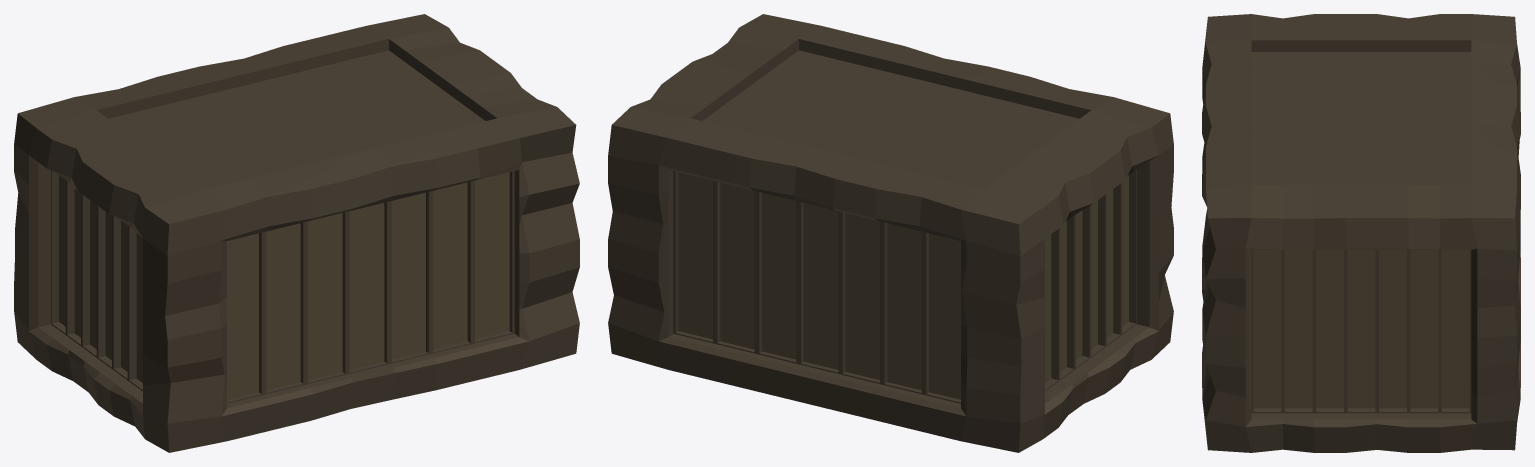
File: Mech4Box.fbx
3 views of the same model, side by side, from view 1: azimuth 30°, elevation 25°; view 2: azimuth 150°, elevation 25°; view 3: azimuth 270°, elevation 25° (orthographic).
Parts seen in each view (by area): view 1: ลูกบาศก์.120; view 2: ลูกบาศก์.120; view 3: ลูกบาศก์.120.
Part boxes in pixels (box(x1,y1,x2,y2)): ลูกบาศก์.120: box(14, 14, 579, 452); ลูกบาศก์.120: box(608, 14, 1173, 452); ลูกบาศก์.120: box(1202, 14, 1520, 452).
Size of the model in its own units: 4.86 by 2.62 by 3.13.
